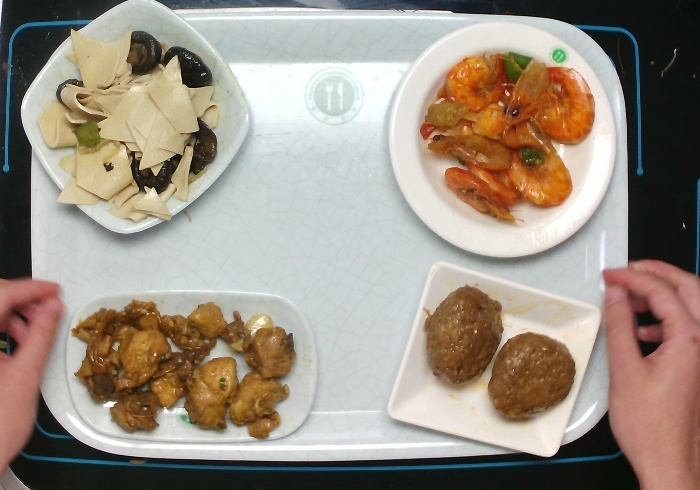WCQzf-Bai_Se_Si_Fang_Die: (382, 257, 605, 464)
WCQzf-Da_Si_Fang_Die: (16, 2, 259, 241)
WCQzf-Kuan_Bian_Yuan_Die: (385, 18, 624, 263)
WCQzf-Tuo_Yuan_Pan: (56, 285, 320, 451)
